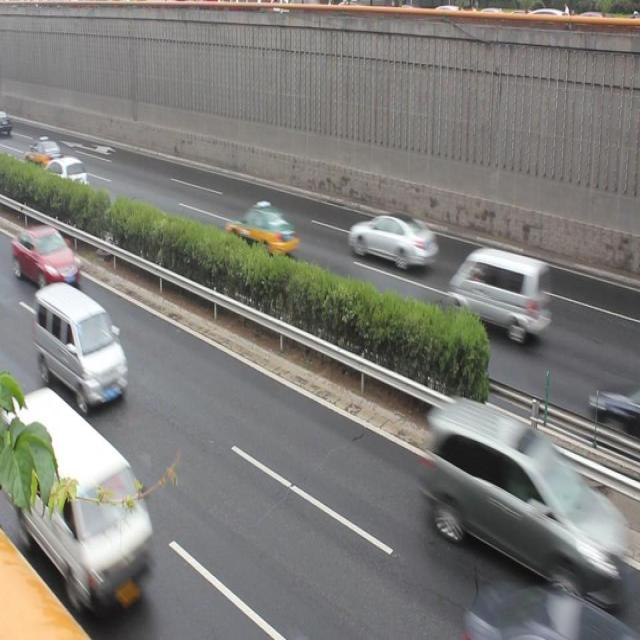car: (445, 563, 627, 640), (345, 210, 434, 274), (225, 198, 300, 254), (16, 226, 82, 288), (42, 156, 88, 201), (28, 137, 59, 165)
truck: (415, 388, 622, 586), (11, 388, 158, 600), (34, 284, 128, 400), (446, 241, 550, 337)
